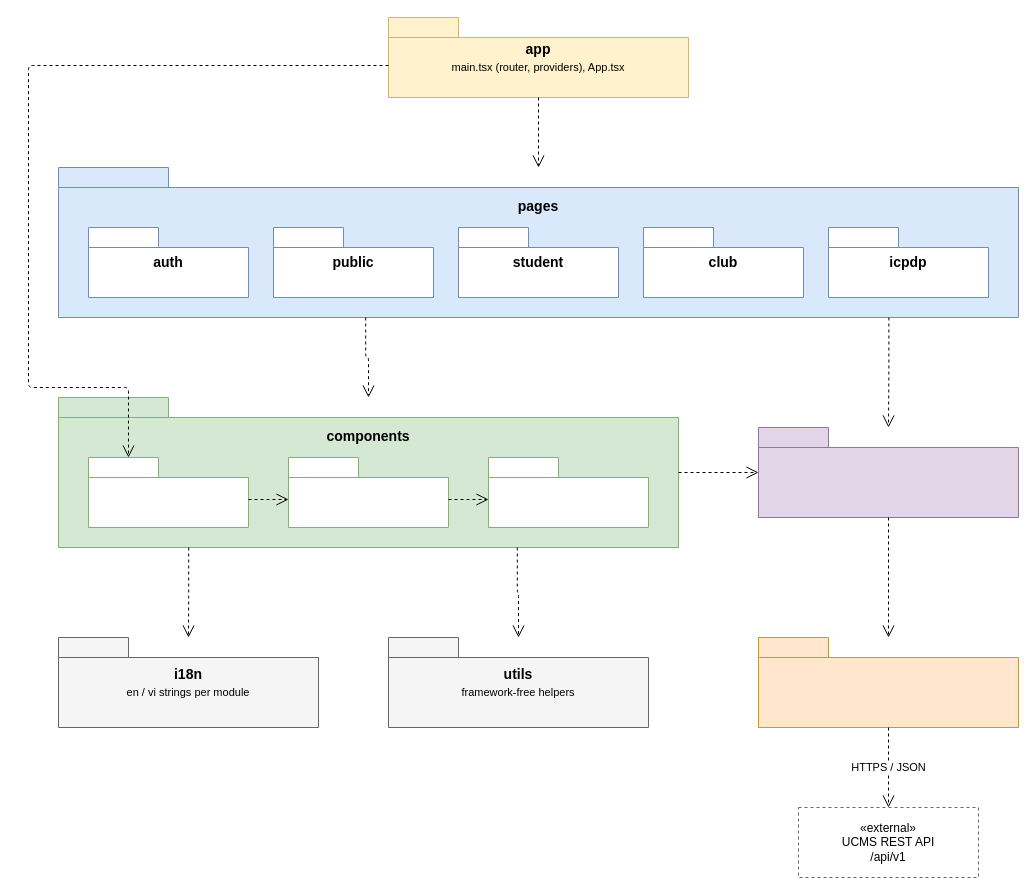
The diagram is 1036 pixels wide and 895 high, and some of its shapes have lost their labels. The centre of each missing label's shape, as x and y in pixels:
"custom" goes at point 368,492.
"hooks React Query hooks per domain" goes at point 888,472.
"layout" goes at point 168,492.
"services typed API clients, one per domain" goes at point 888,682.
"ui" goes at point 568,492.
